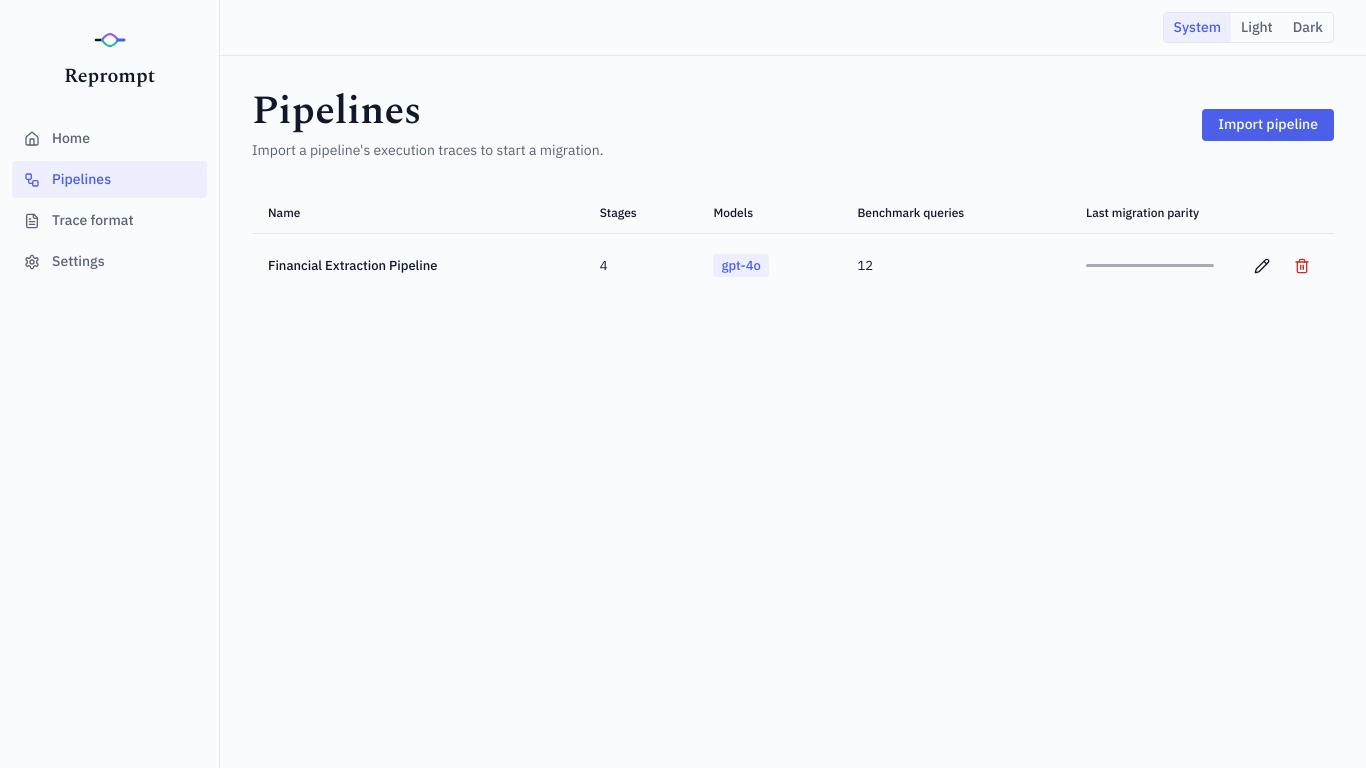
Home (pipelines list) › surfaces an error if the delete request fails
Click the button named "Delete Financial Extraction Pipeline". click: [1302, 266]
box: [1286, 250, 1318, 282]
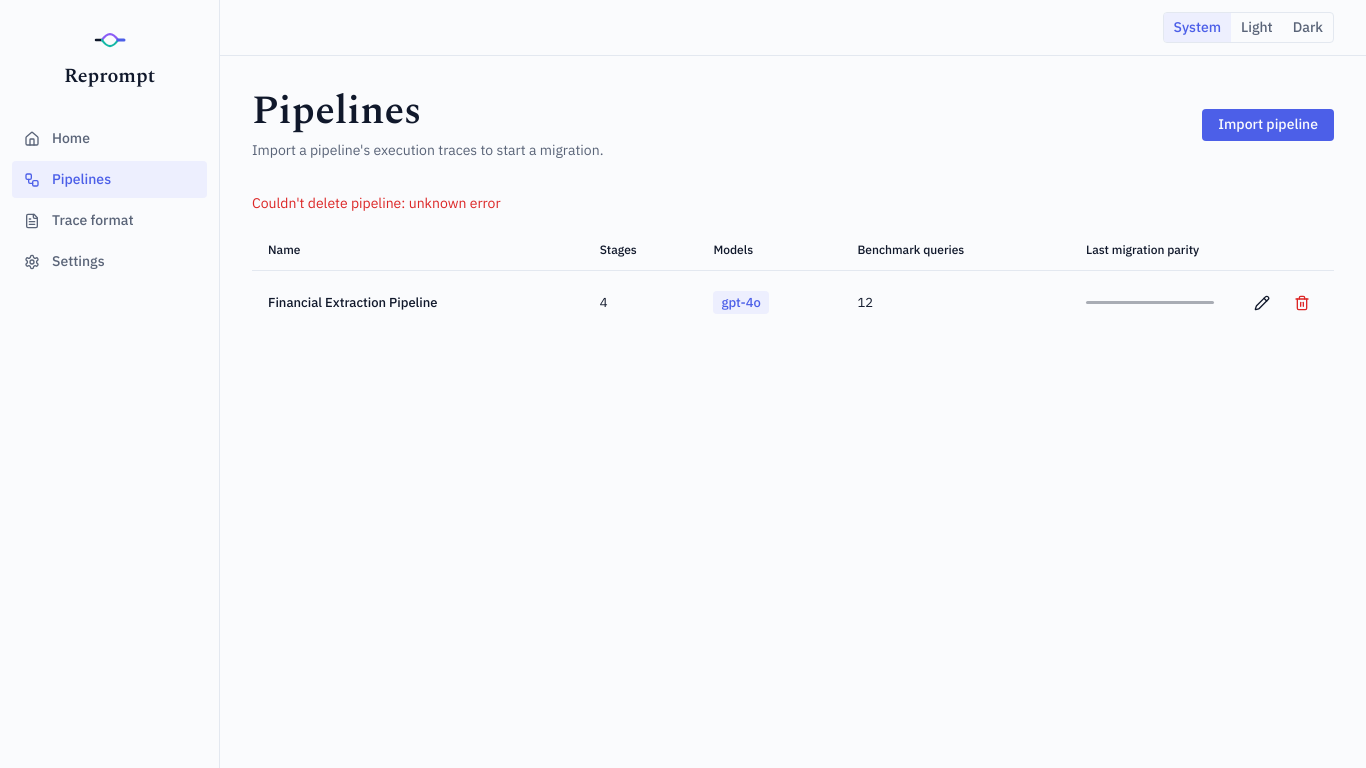
Result: the text "Couldn't delete pipeline: unknown error" is shown at [252, 194, 501, 212]
